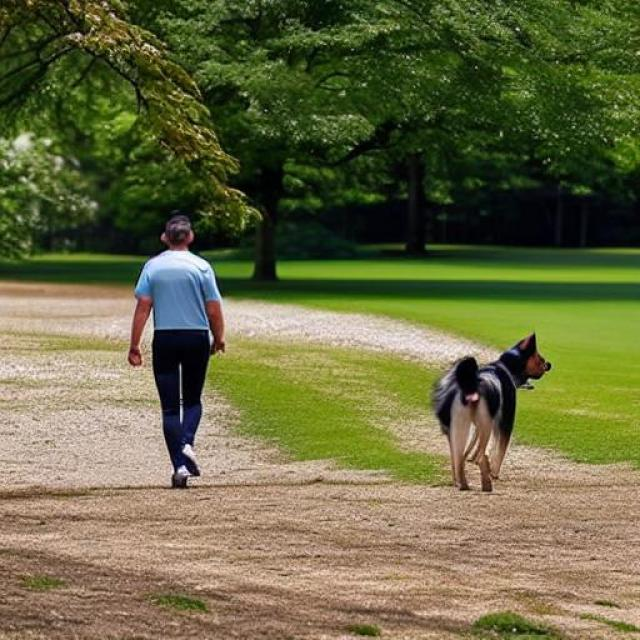Unleashed_Dog: (157, 330, 552, 492)
